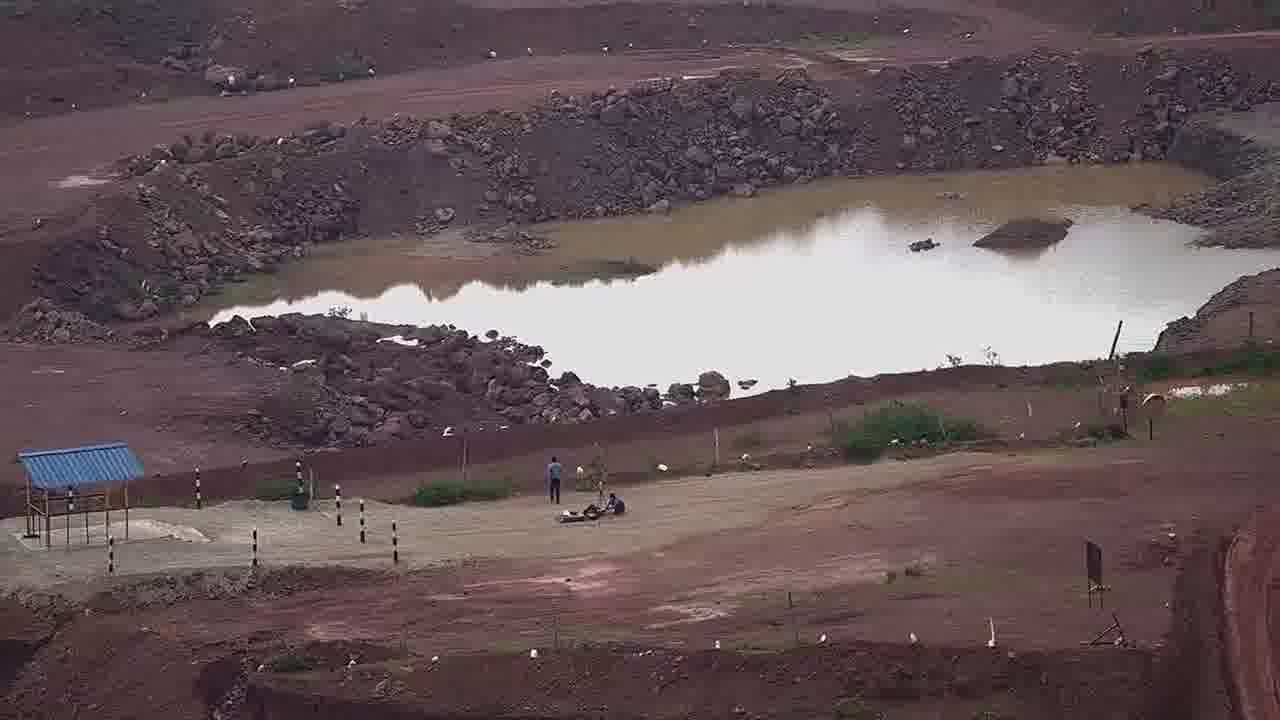person: (541, 452, 566, 508), (602, 493, 630, 517)
